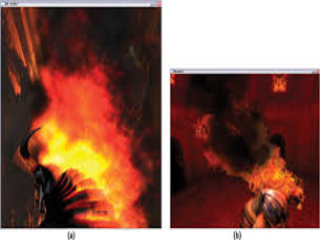fire: (32, 63, 146, 223), (234, 137, 301, 220)
